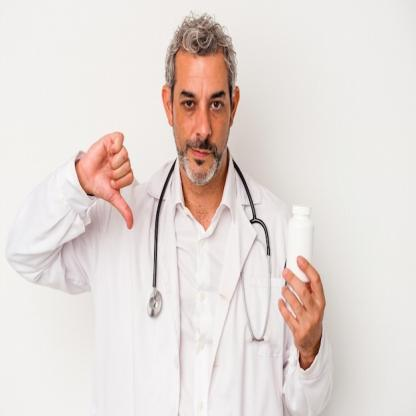thumb_down: (82, 127, 138, 233)
